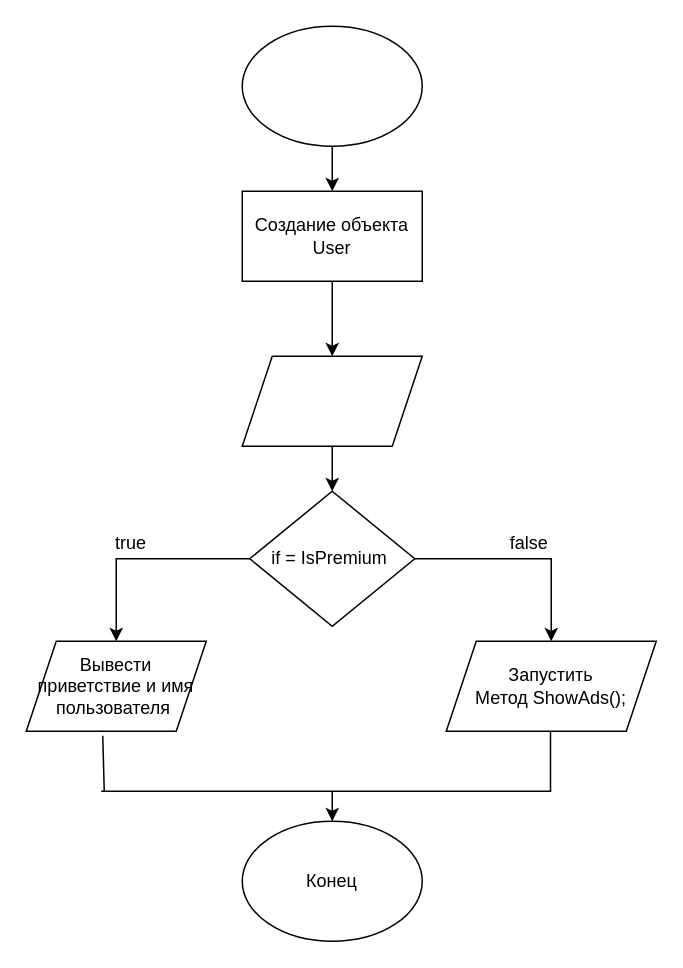
This 683x968 diagram has some shape labels left out. The shapes that lost their labels are listed below. From the top down, each one's centre as x and y in pixels, then its label:
At point 331,85: "Начало".
At point 331,400: "Считывает логин имя и статус подписки".
